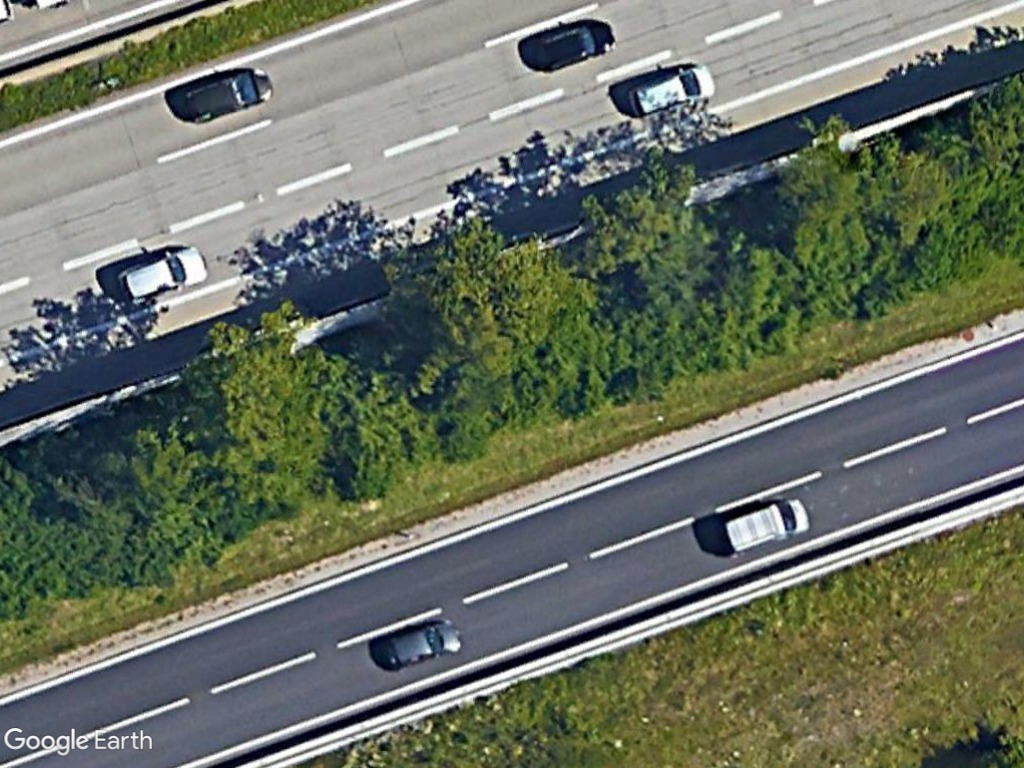car: (112, 236, 216, 308), (169, 61, 277, 129), (620, 59, 720, 121), (518, 14, 620, 74), (373, 611, 465, 674)
van: (715, 493, 819, 559)
